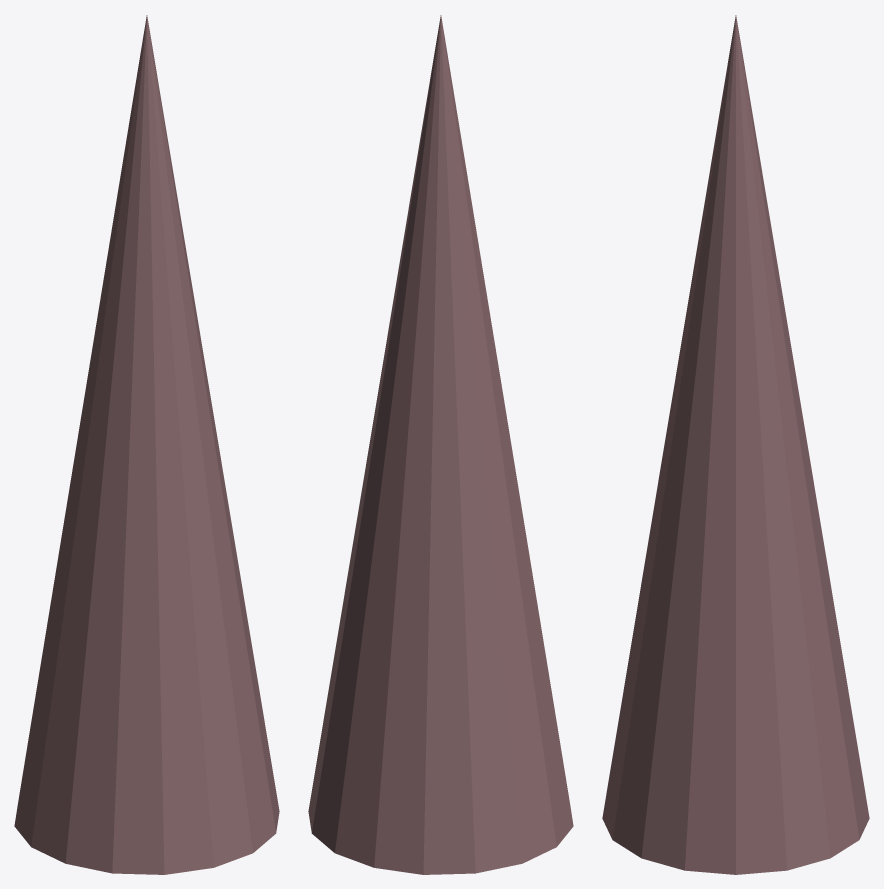
File: Spike.fbx
3 renders of one model, left to right at view 1: azimuth 30°, elevation 25°; view 2: azimuth 150°, elevation 25°; view 3: azimuth 270°, elevation 25°, orthographic.
Visible parts, largest first — view 1: Spike; view 2: Spike; view 3: Spike.
Part boxes in pixels (x1=…): Spike: x1=14, y1=15, x2=279, y2=874; Spike: x1=308, y1=15, x2=573, y2=874; Spike: x1=602, y1=15, x2=869, y2=874.
Size of the model in its own units: 11.85 by 39.35 by 11.85.
